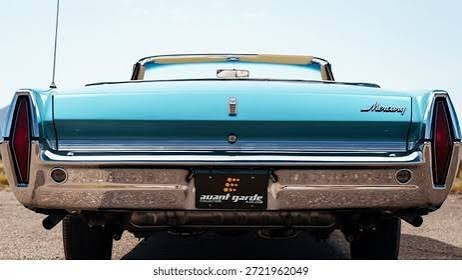car: (16, 69, 451, 267)
